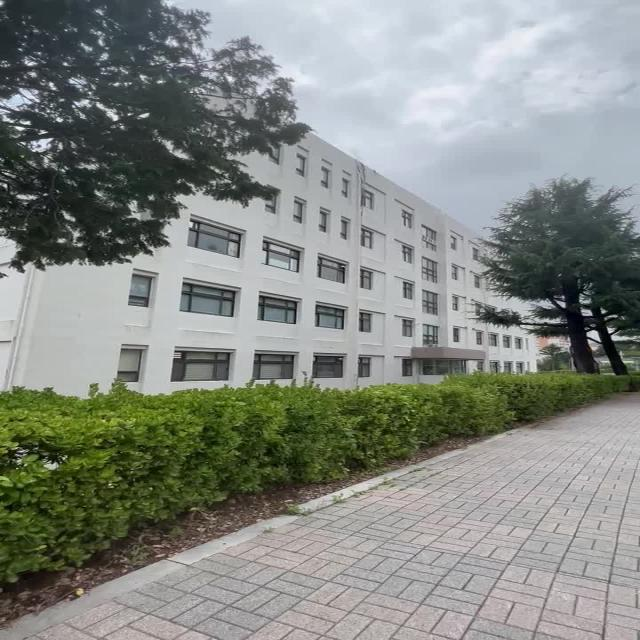building: (256, 142, 473, 380)
